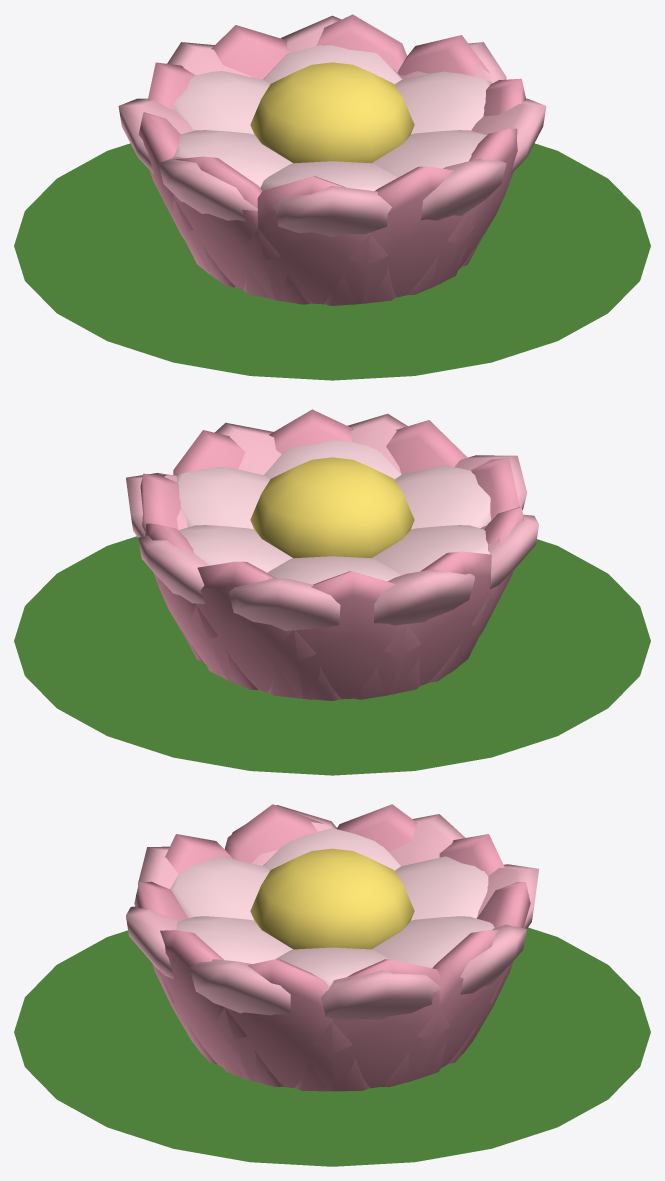
The model's file is lotus.glb.
The picture shows the model from 3 angles, top to bottom: view 1: azimuth 30°, elevation 25°; view 2: azimuth 150°, elevation 25°; view 3: azimuth 270°, elevation 25°; orthographic projection.
Parts seen in each view (by area): view 1: lotus; view 2: lotus; view 3: lotus.
Boxes of the visible parts, x1,y1,x2,y2 form: lotus: (14, 14, 650, 380); lotus: (14, 409, 650, 775); lotus: (14, 804, 650, 1166).
Size of the model in its own units: 0.124 by 0.0535 by 0.124.
